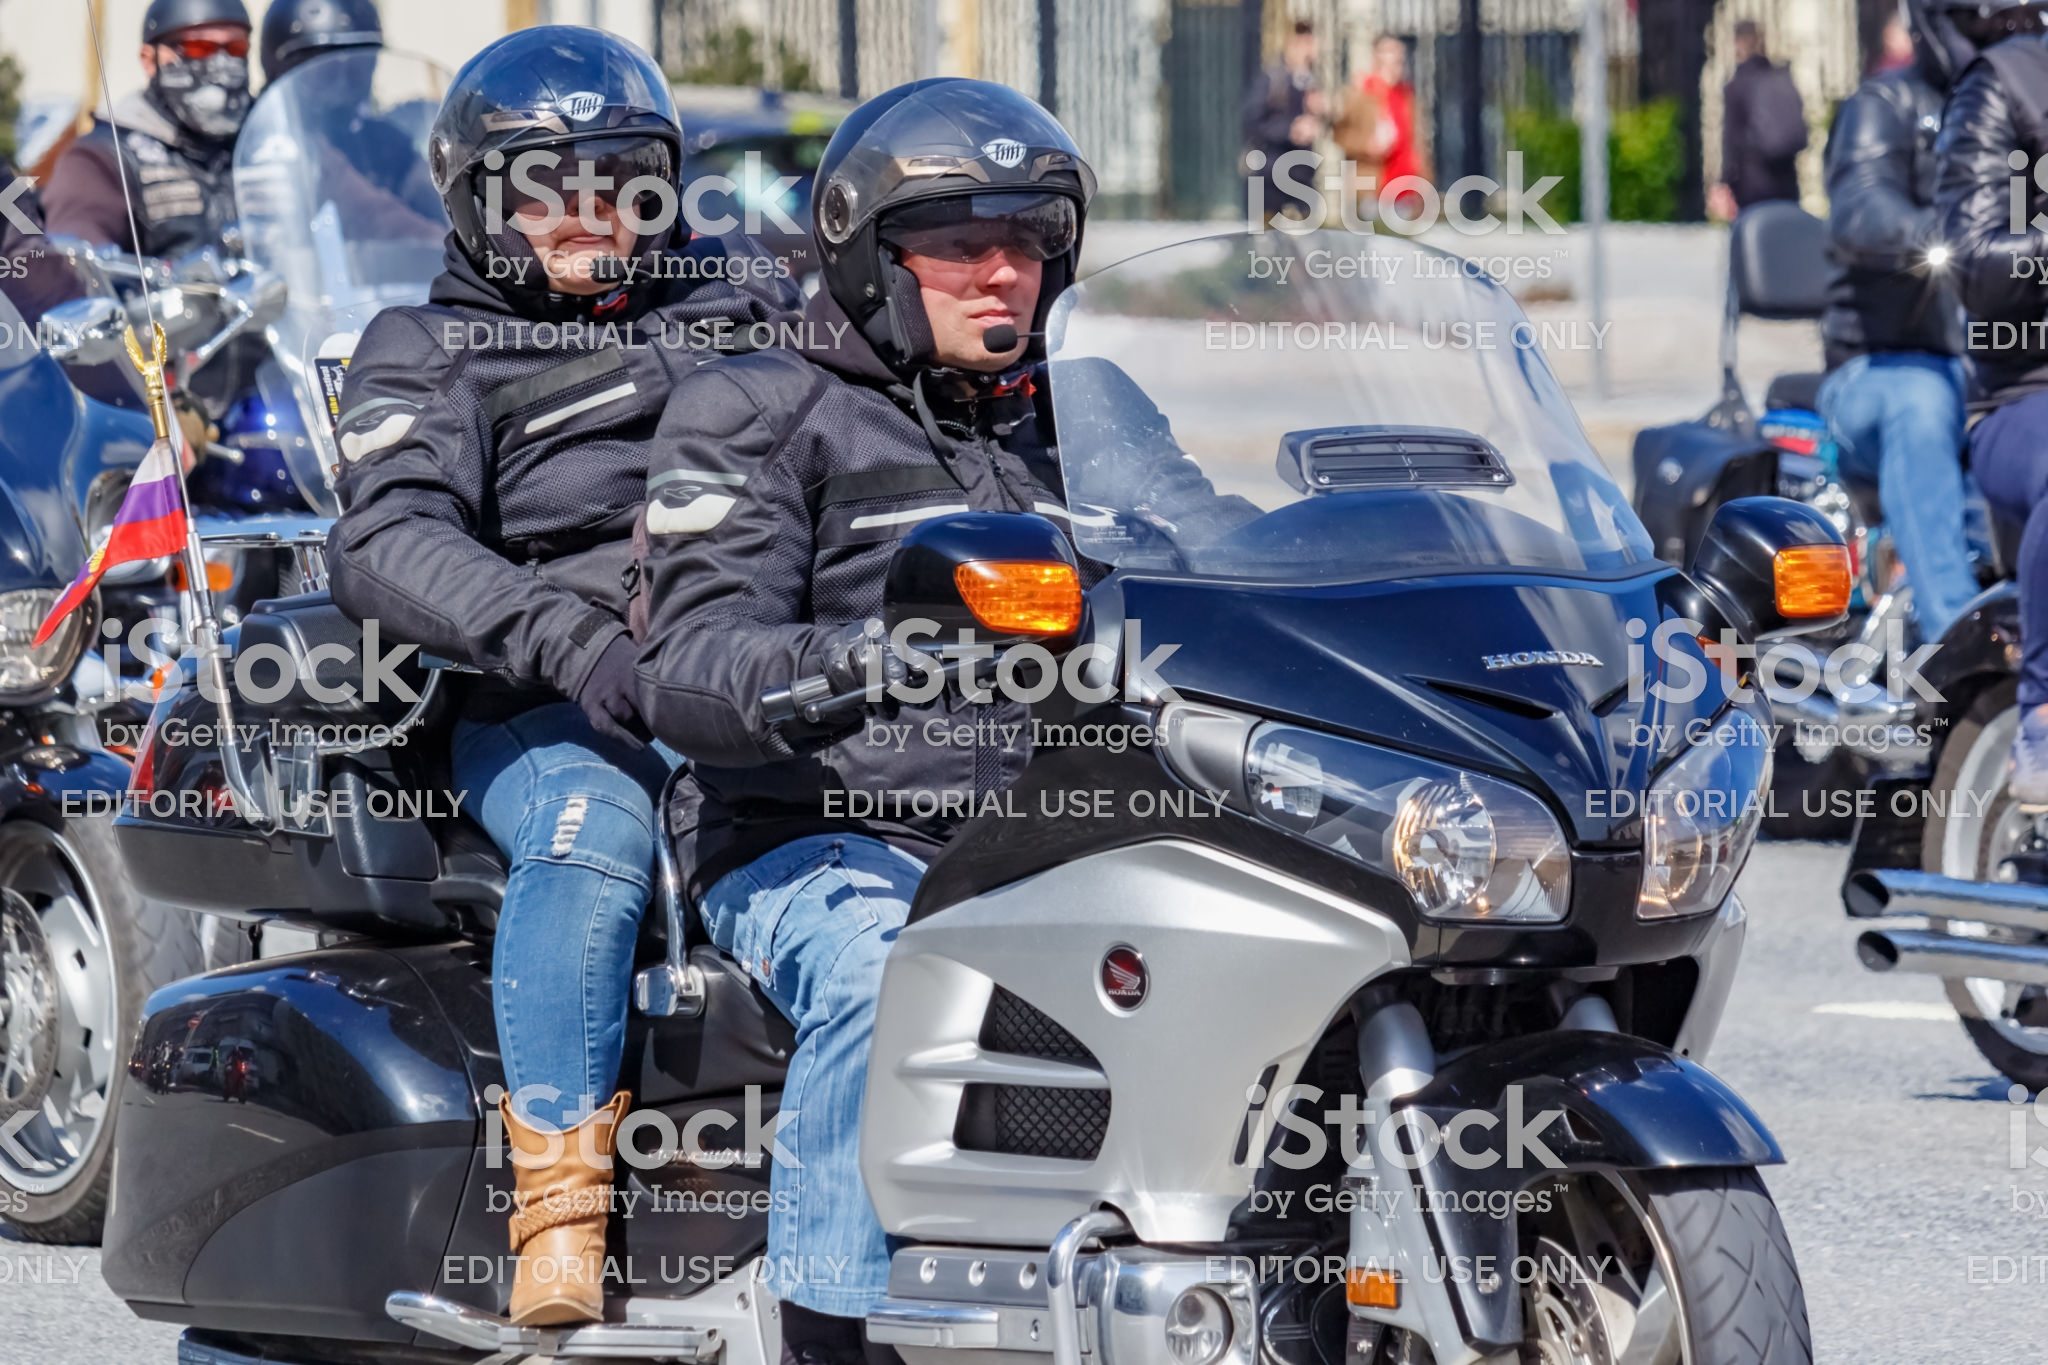helmet: (793, 78, 1115, 376), (411, 40, 702, 276)
